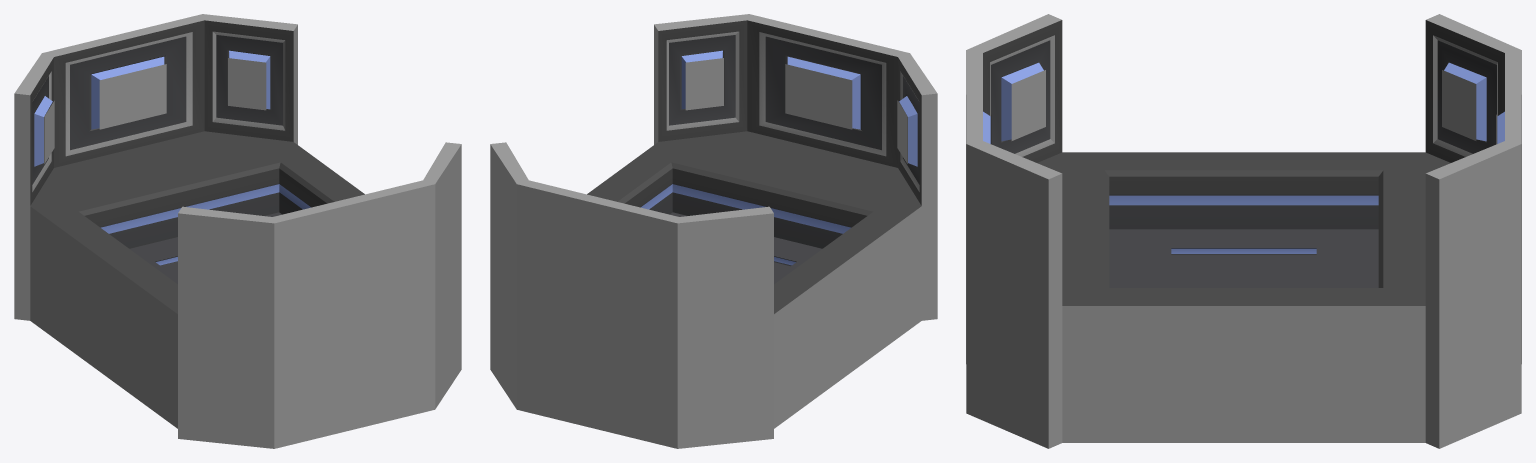
File: ROOM Main Control.fbx
3 views of the same model, side by side, from view 1: azimuth 30°, elevation 25°; view 2: azimuth 150°, elevation 25°; view 3: azimuth 270°, elevation 25° (orthographic). The views are drawn at different scales.
Parts seen in each view (by area): view 1: pCube10; view 2: pCube10; view 3: pCube10.
Boxes of the visible parts, bbox=[...] form: pCube10: bbox=[14, 14, 461, 448]; pCube10: bbox=[490, 14, 937, 448]; pCube10: bbox=[966, 14, 1521, 448].
Size of the model in its own units: 1687 by 1282 by 2395.
